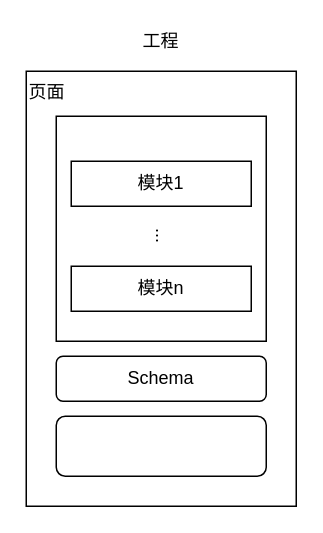
This 323x533 diagram has some shape labels left out. The shapes that lost their labels are listed below. From the top down, each one's box as (x1, y1, x2, y2) in pixels, then its label:
(55, 115, 266, 341): 模块
(55, 415, 266, 476): Render Engine
